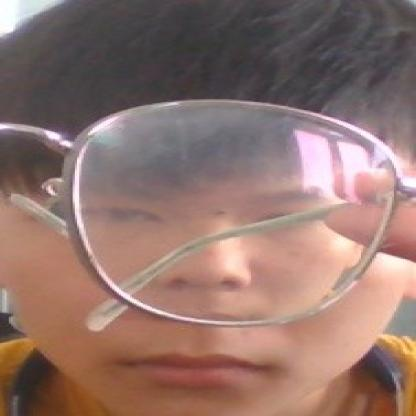not trash: (59, 96, 416, 327)
